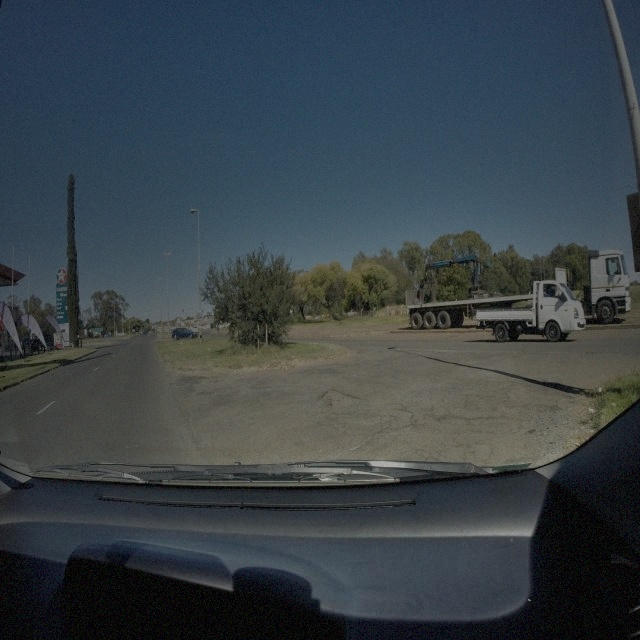pothole: (321, 385, 363, 408)
